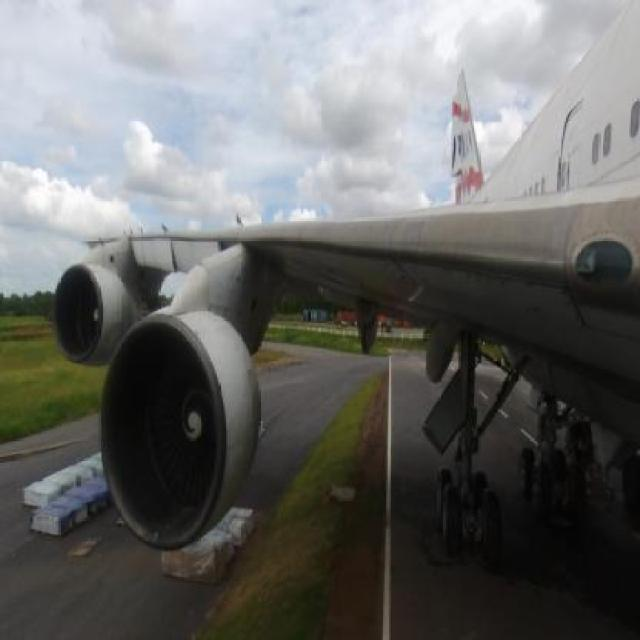Scartch: (426, 254, 562, 301)
